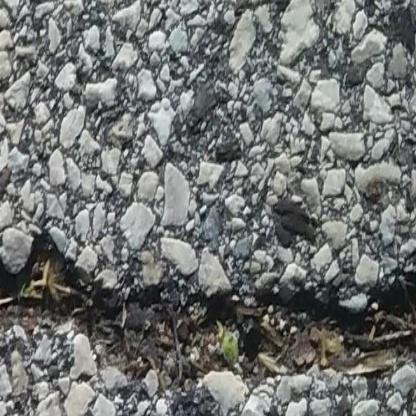Cracks: (0, 233, 416, 390)
